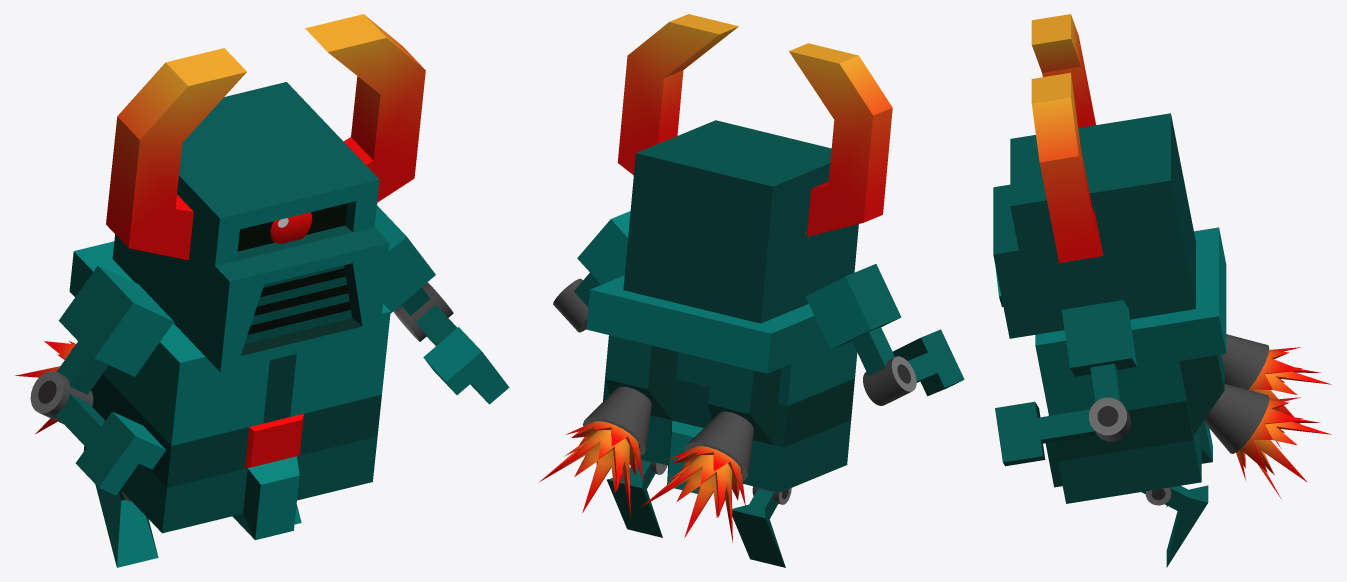
The picture shows the model from 3 angles, left to right: view 1: azimuth 30°, elevation 25°; view 2: azimuth 150°, elevation 25°; view 3: azimuth 270°, elevation 25°; orthographic projection. The views are drawn at different scales.
Parts seen in each view (by area): view 1: Ch_206_Head, Ch_206, Ch_206_Arm_L, Ch_206_Jaw_L, Ch_206_Jaw_R, Ch_206_Arm_R, Ch_206_Leg_L, Ch_206_Eye_01; view 2: Ch_206, Ch_206_Head, Ch_206_Jaw_L, Ch_206_Arm_L, Ch_206_Jaw_R, Ch_206_Arm_R, Ch_216_Fire_R, Ch_216_Fire_L, Ch_206_Leg_L, Ch_206_Leg_R; view 3: Ch_206_Head, Ch_206, Ch_206_Arm_R, Ch_206_Jaw_R, Ch_206_Jaw_L, Ch_216_Fire_L, Ch_206_Leg_R, Ch_216_Fire_R.
Part boxes in pixels (x1=…): Ch_206_Head: x1=112, y1=82, x2=389, y2=372; Ch_206: x1=69, y1=241, x2=390, y2=540; Ch_206_Arm_L: x1=30, y1=265, x2=173, y2=495; Ch_206_Jaw_L: x1=106, y1=48, x2=246, y2=260; Ch_206_Jaw_R: x1=305, y1=14, x2=425, y2=202; Ch_206_Arm_R: x1=374, y1=205, x2=509, y2=404; Ch_206_Leg_L: x1=95, y1=484, x2=158, y2=567; Ch_206_Eye_01: x1=270, y1=212, x2=312, y2=243; Ch_206: x1=582, y1=275, x2=857, y2=493; Ch_206_Head: x1=623, y1=120, x2=858, y2=323; Ch_206_Jaw_L: x1=789, y1=43, x2=892, y2=236; Ch_206_Arm_L: x1=805, y1=264, x2=964, y2=405; Ch_206_Jaw_R: x1=617, y1=14, x2=738, y2=175; Ch_206_Arm_R: x1=553, y1=211, x2=630, y2=332; Ch_216_Fire_R: x1=642, y1=446, x2=745, y2=542; Ch_216_Fire_L: x1=539, y1=421, x2=643, y2=516; Ch_206_Leg_L: x1=732, y1=486, x2=791, y2=567; Ch_206_Leg_R: x1=607, y1=459, x2=667, y2=537; Ch_206_Head: x1=993, y1=113, x2=1195, y2=338; Ch_206: x1=1035, y1=227, x2=1269, y2=503; Ch_206_Arm_R: x1=995, y1=300, x2=1136, y2=466; Ch_206_Jaw_R: x1=1031, y1=72, x2=1103, y2=262; Ch_206_Jaw_L: x1=1031, y1=14, x2=1095, y2=127; Ch_216_Fire_L: x1=1236, y1=397, x2=1331, y2=499; Ch_206_Leg_R: x1=1141, y1=485, x2=1208, y2=567; Ch_216_Fire_R: x1=1249, y1=347, x2=1331, y2=449.
Bounding box in the file's own units: 10.61 × 13.42 × 8.72.
